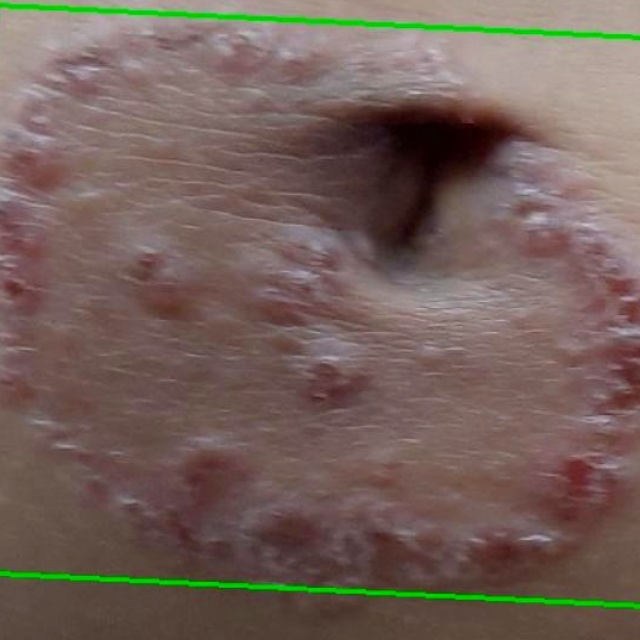Tinea Corporis: (0, 5, 639, 607)
